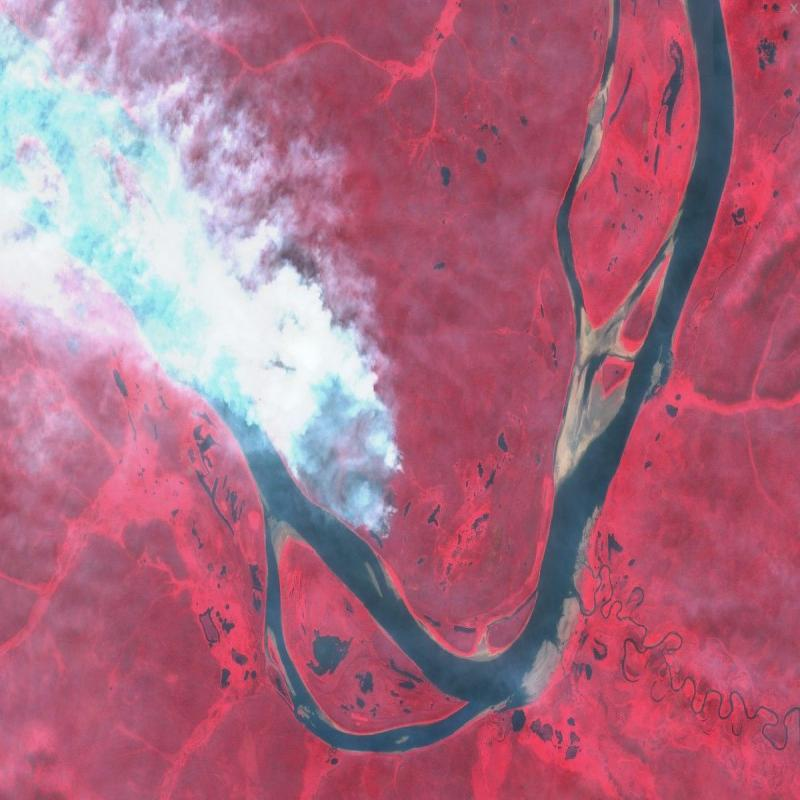fire: (244, 320, 411, 546)
